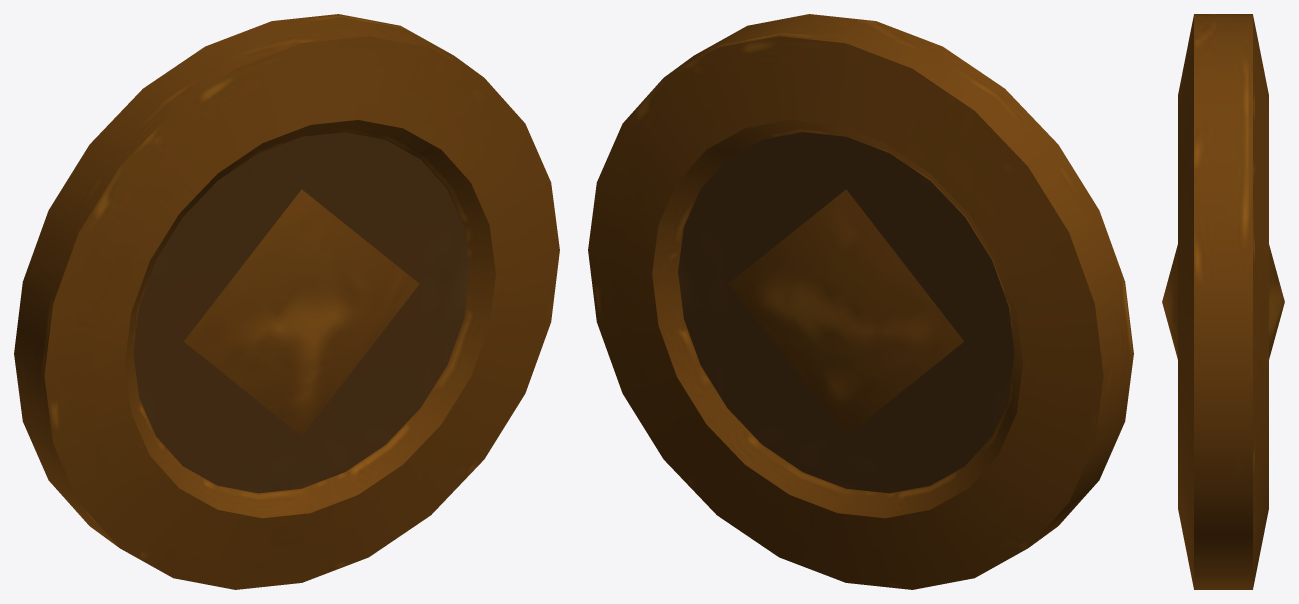
File: coin.glb
3 views of the same model, side by side, from view 1: azimuth 30°, elevation 25°; view 2: azimuth 150°, elevation 25°; view 3: azimuth 270°, elevation 25° (orthographic). The views are drawn at different scales.
Visible parts, largest first — view 1: Coin; view 2: Coin; view 3: Coin.
Part boxes in pixels (x1=…): Coin: x1=14, y1=14, x2=559, y2=589; Coin: x1=588, y1=14, x2=1133, y2=589; Coin: x1=1162, y1=14, x2=1284, y2=589.
Bounding box in the file's own units: 0.0683 × 0.0683 × 0.0145.
Materials: 1 (1 with a texture image).
